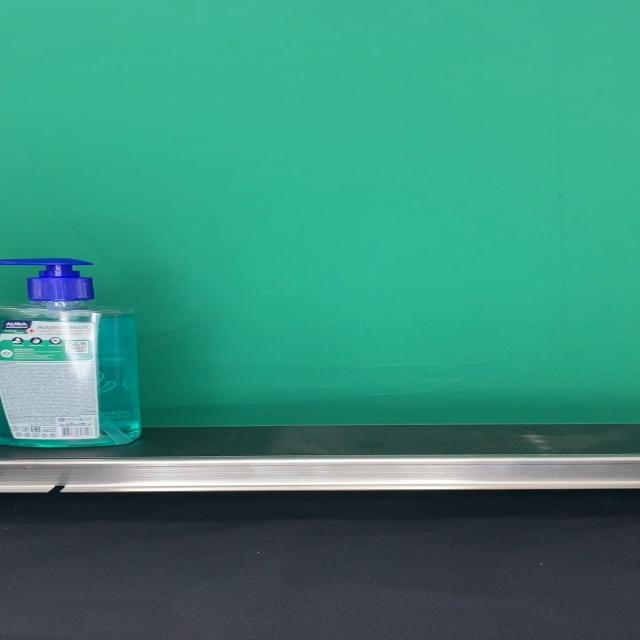Bottle: (0, 257, 141, 448)
Cap: (0, 258, 93, 301)
